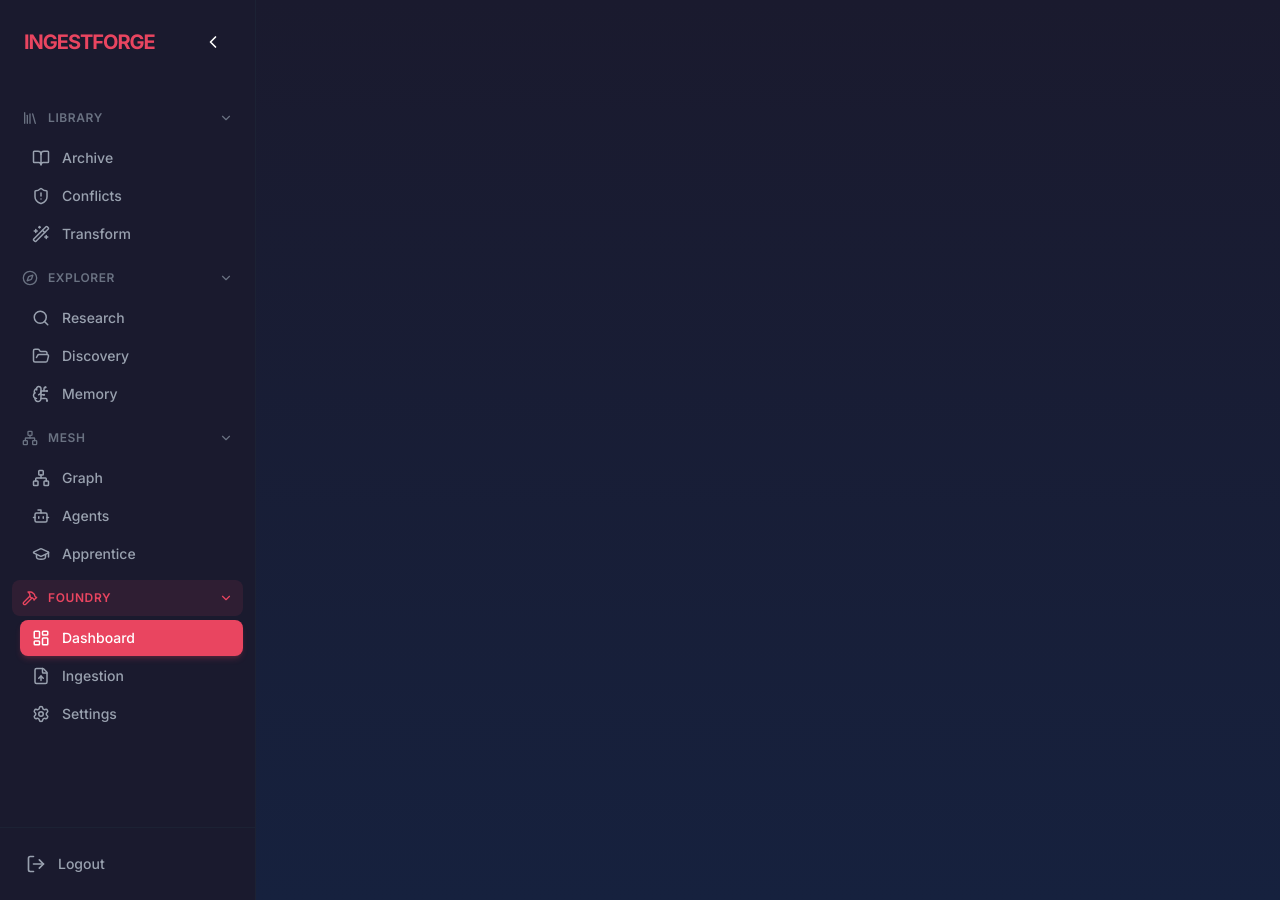
Scenario: Sidebar › Collapse/Expand › hides logo when collapsed
Click the button named "Toggle Sidebar".
click(213, 42)  # box [195,24,231,60]
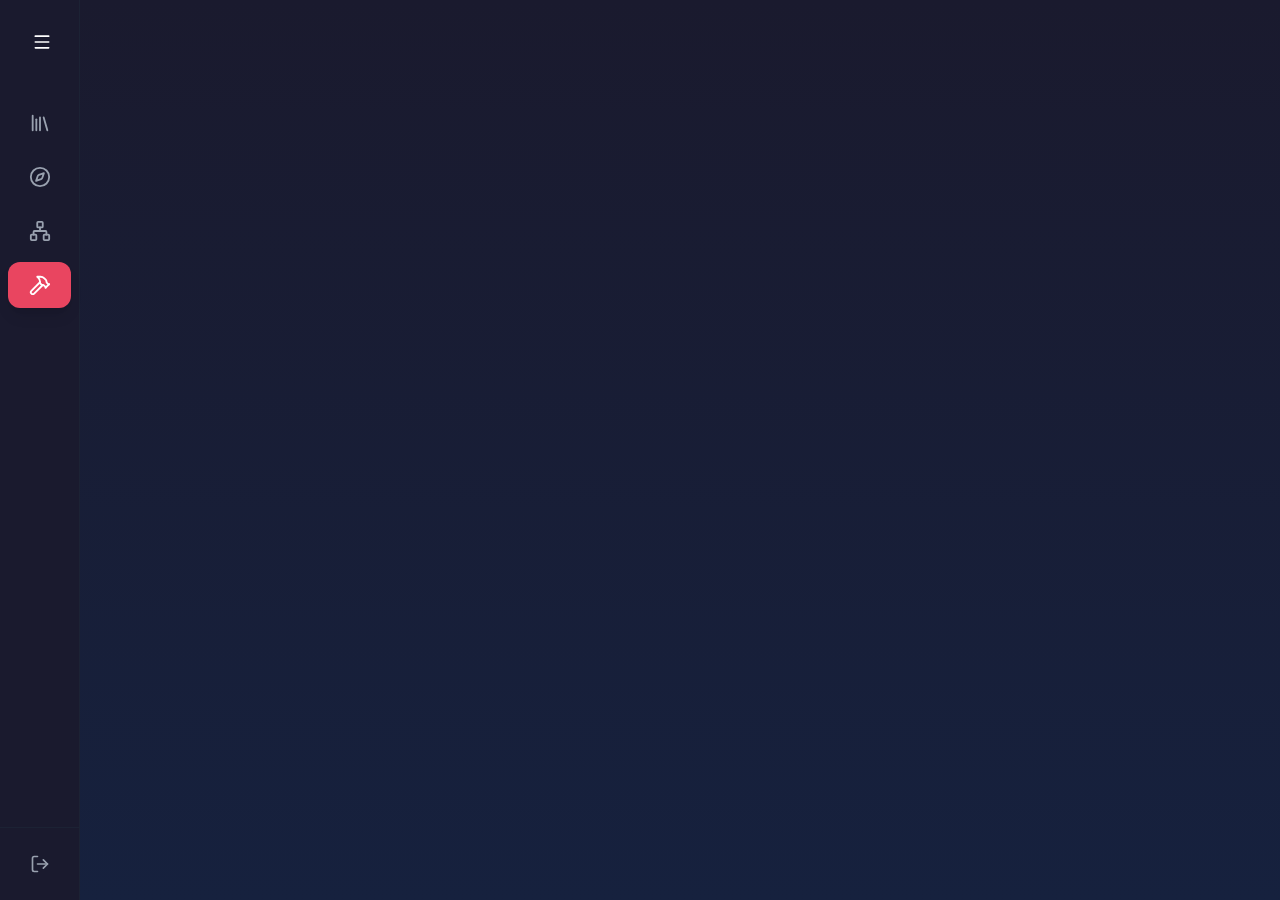
Expected: the text "INGESTFORGE" is gone
